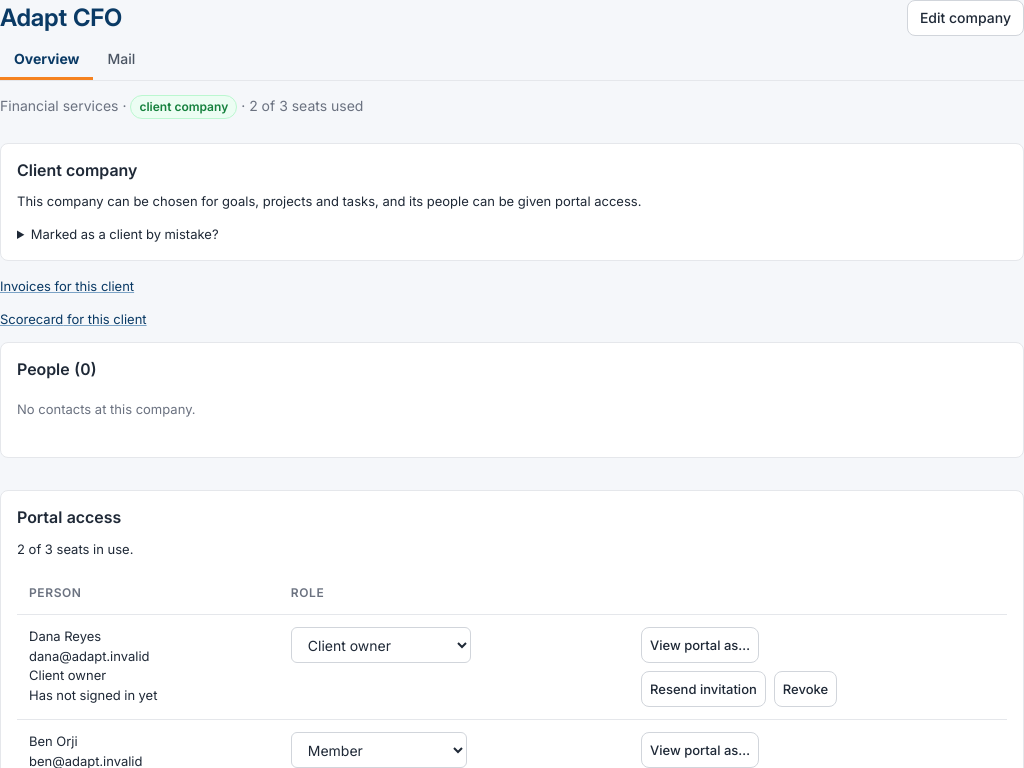
changing an existing portal user's role › asks before narrowing to employee, and sends nothing if declined
Select "Client team member" in the dropdown named "Role for Dana Reyes". click: (381, 645)
box: [291, 627, 471, 663]
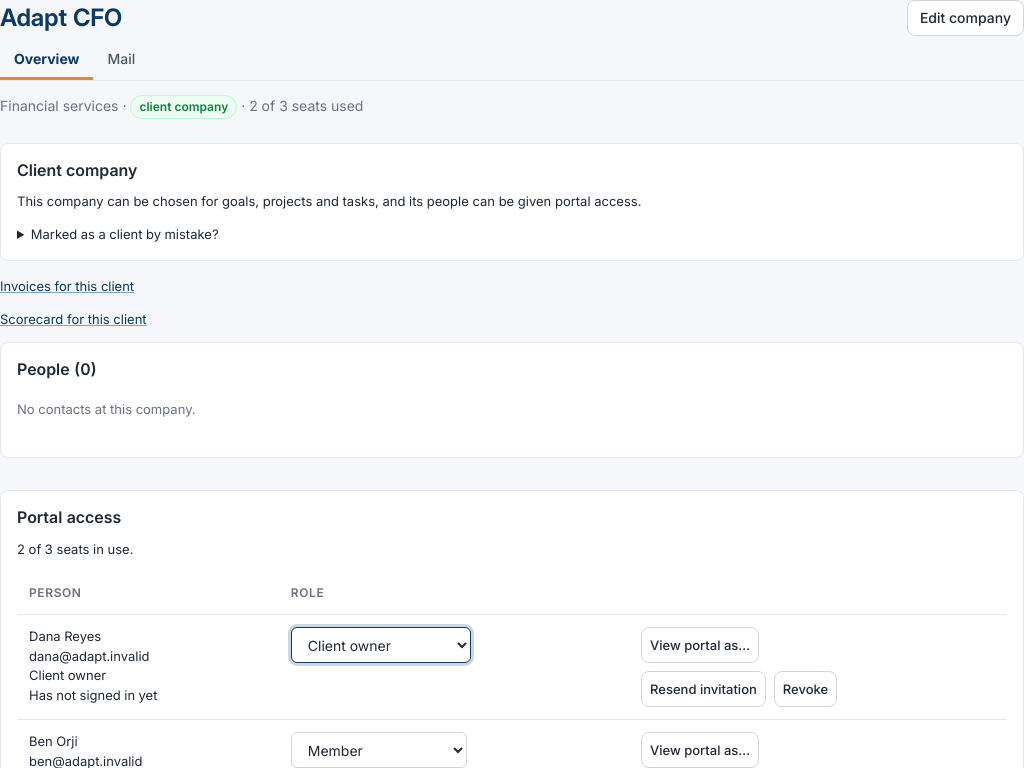
Select "Client team member" in the dropdown named "Role for Dana Reyes". click: (381, 645)
box: [291, 627, 471, 663]
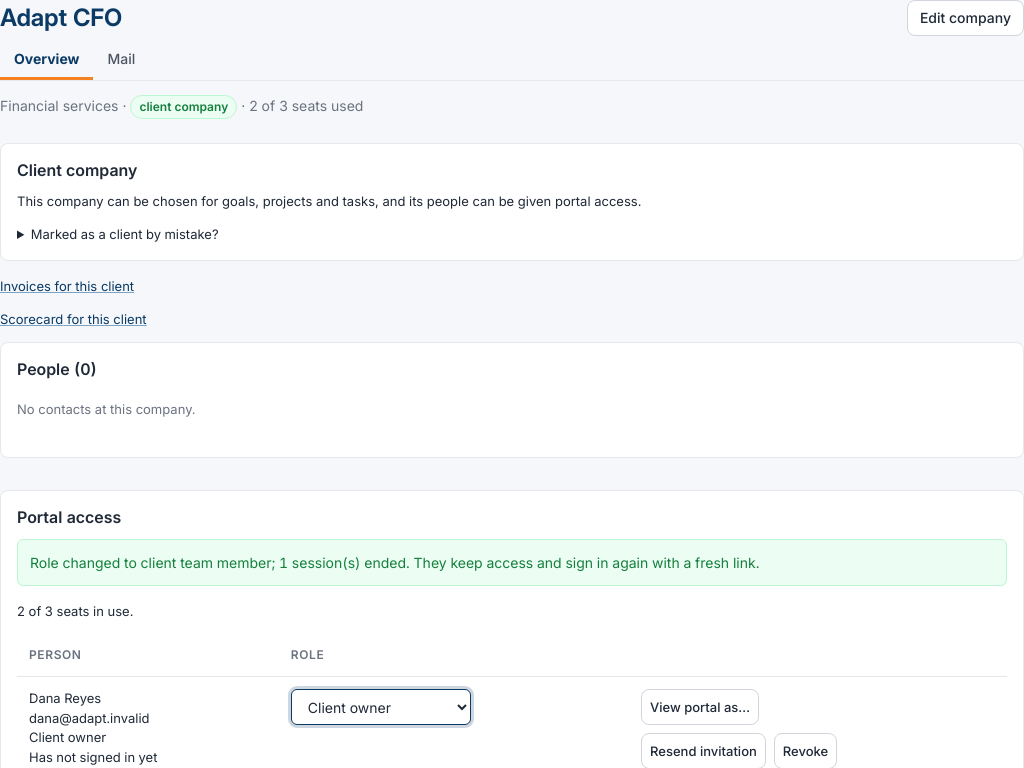
Now the text "1 session(s) ended" is shown, box [30, 554, 759, 570]
